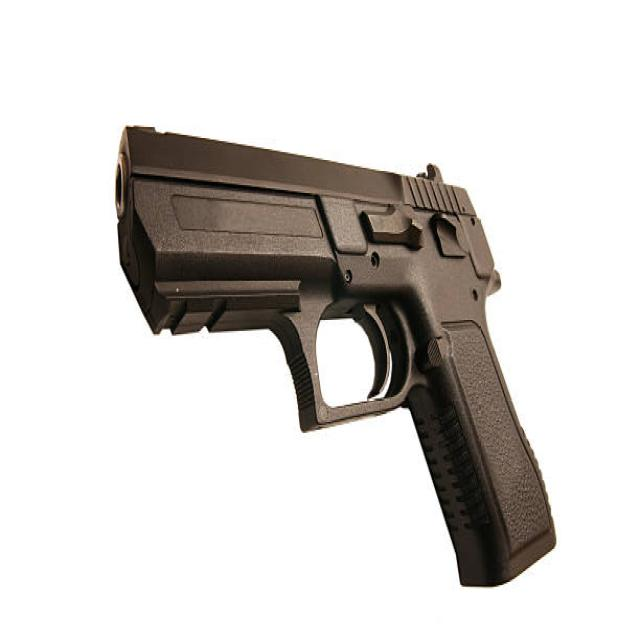pistol: (107, 116, 559, 596)
